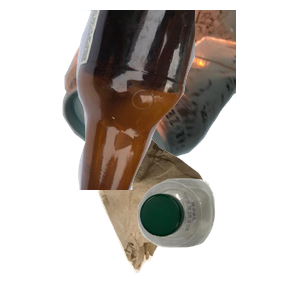glass: (60, 10, 300, 190)
metal: (60, 10, 300, 175)
plastic: (135, 176, 300, 300)
trash: (79, 123, 281, 300)
